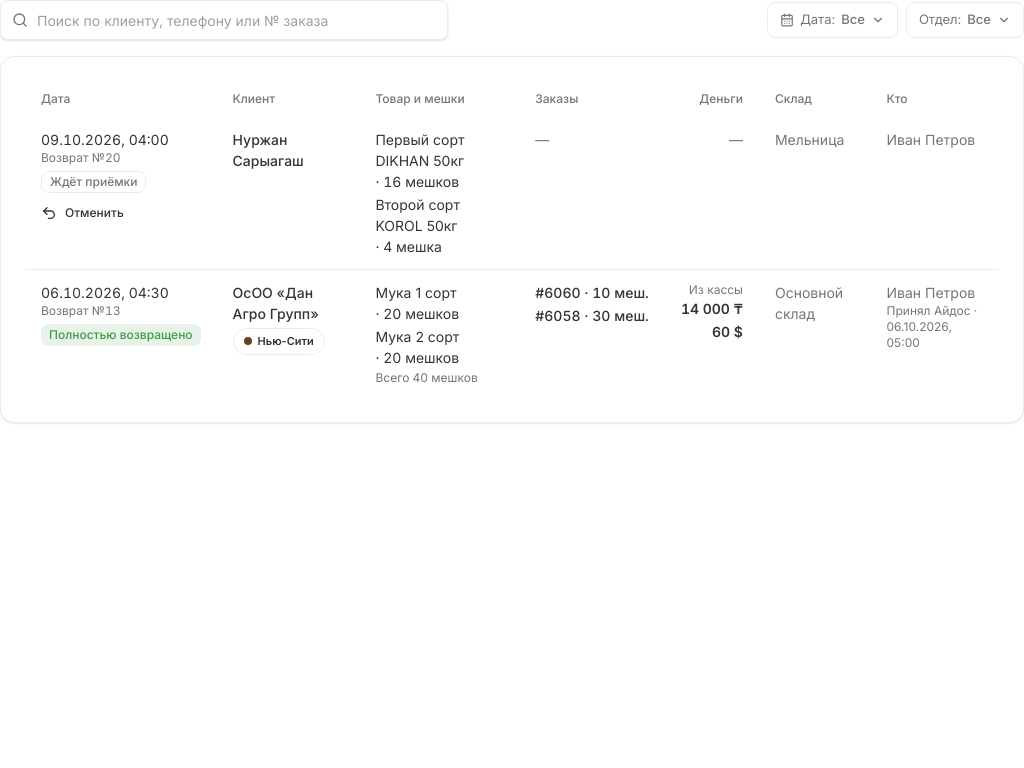
lets a manager with orders.edit cancel a pending return and applies the server row
The image size is (1024, 768).
Expected: the text "Возврат №20" is shown, [41,150,120,165]
Click the button with aria-label "Отменить возврат №20".
click(82, 213)  # box [29,197,136,229]
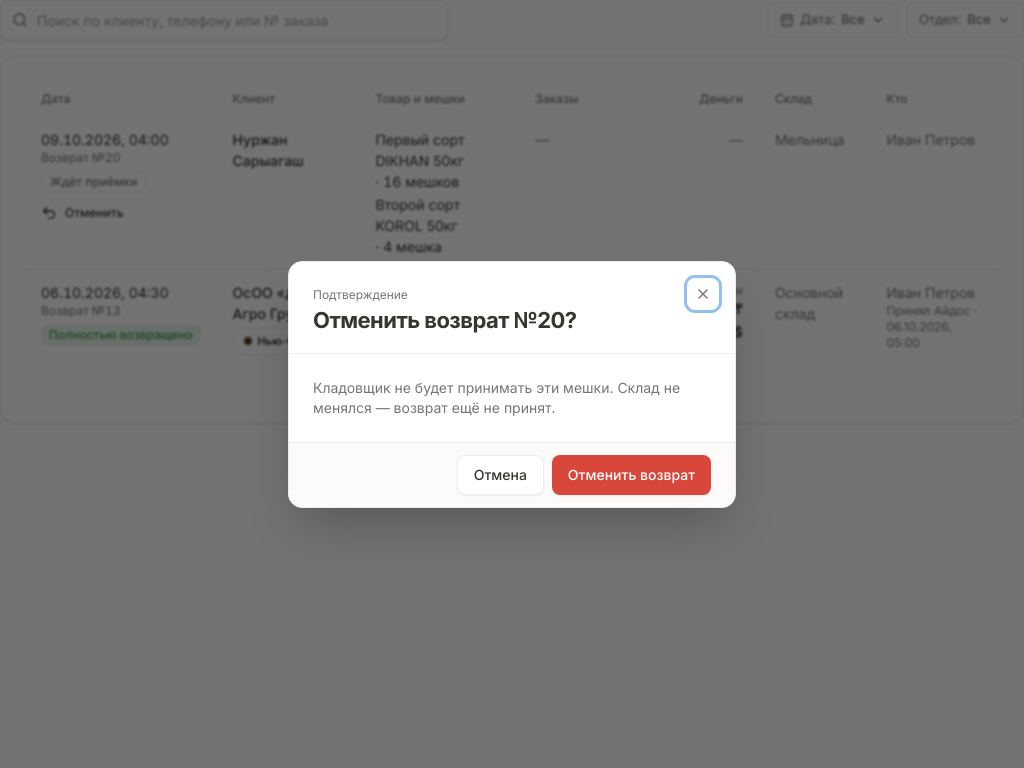
Now the dialog "Отменить возврат №20?" shows "Склад не менялся", box [313,378,680,416]
Click the button "Отменить возврат".
click(631, 474)  # box [552,454,711,494]
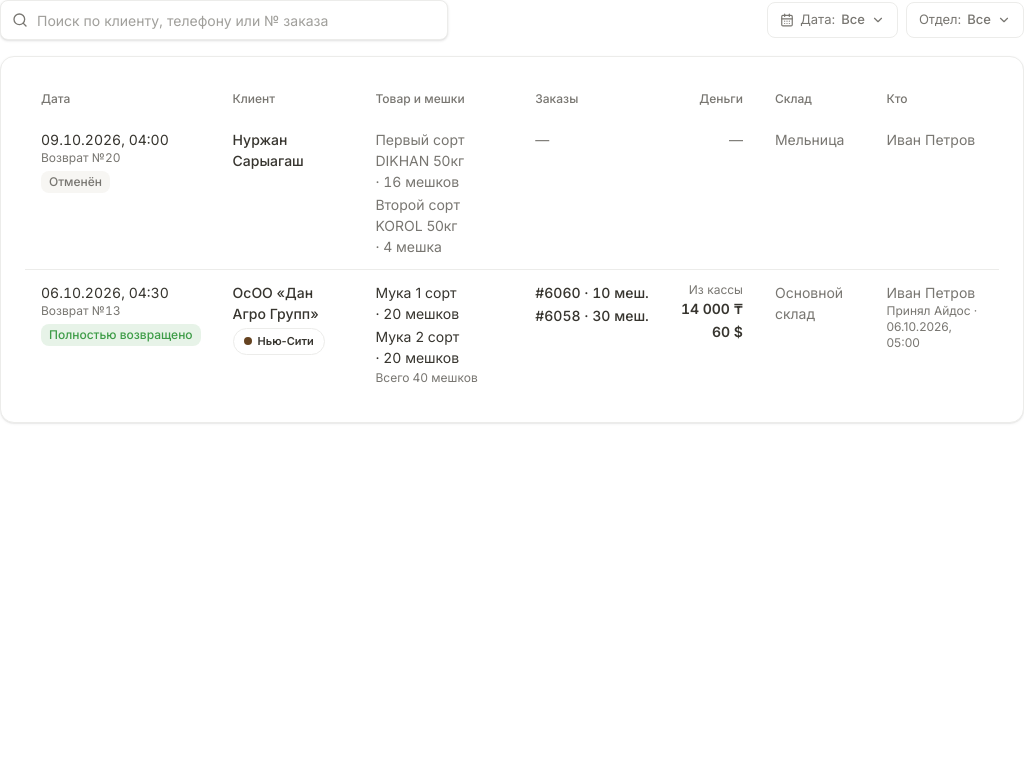
Now the text "Отменён" is shown, box [41,171,110,193]
Now the heading "Отменить возврат" is gone
